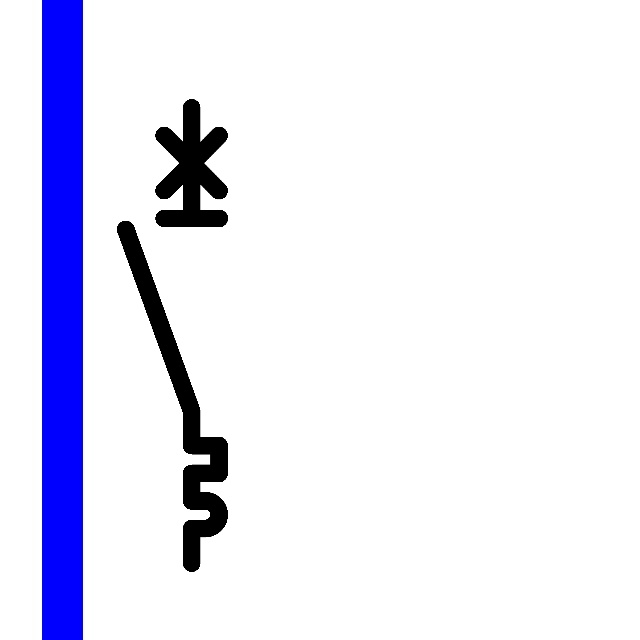interruptor_termomagnetico: (114, 96, 231, 575)
